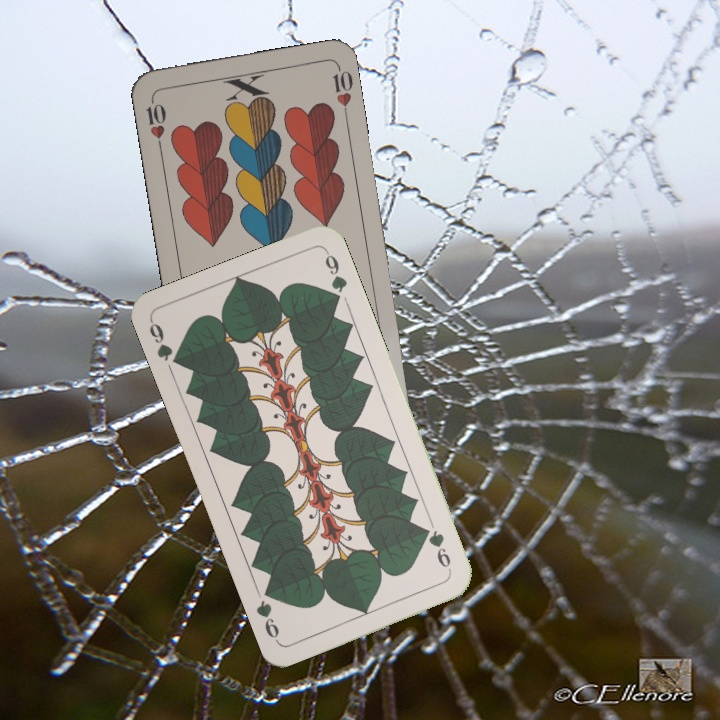G9: (145, 316, 185, 369), (420, 523, 455, 575)
H10: (141, 93, 169, 152)
